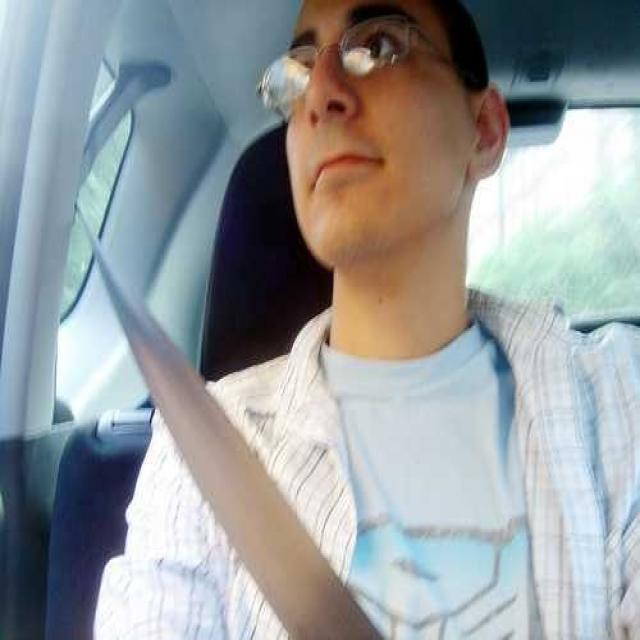seatbelt: (74, 188, 325, 596)
